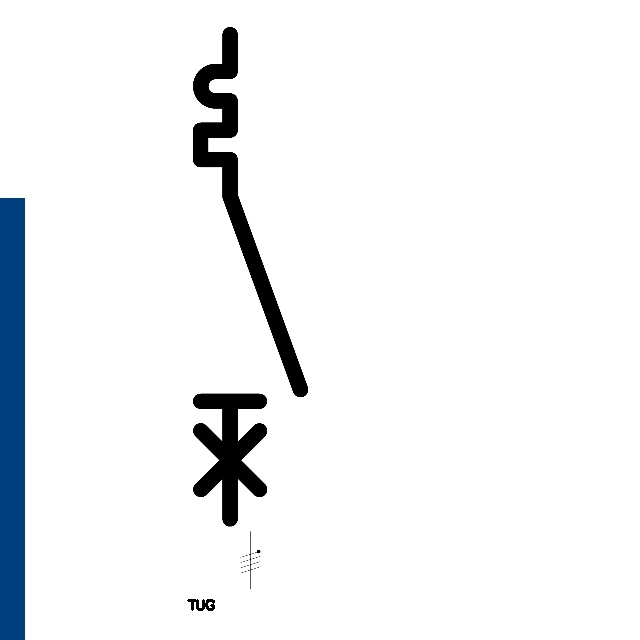interruptor_termomagnetico: (188, 22, 312, 531)
